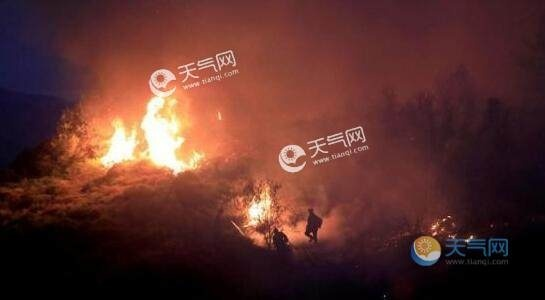fire: (97, 91, 204, 172), (240, 182, 273, 230)
